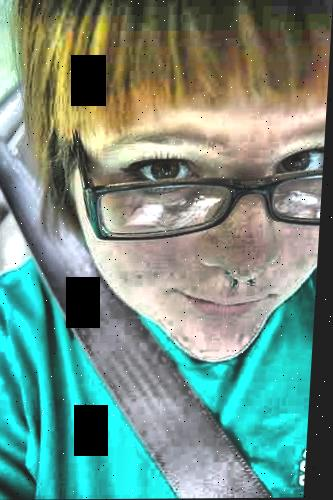seatbelt: (0, 123, 261, 474)
